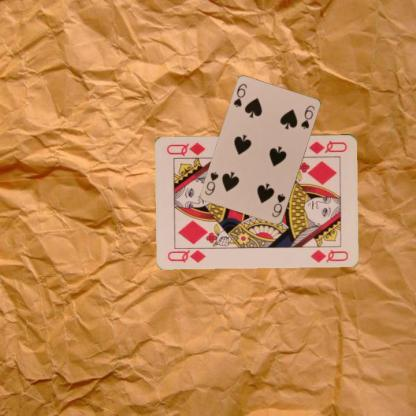6s: (269, 191, 287, 219), (231, 82, 249, 108)
Qd: (165, 245, 210, 264), (307, 137, 348, 155)
